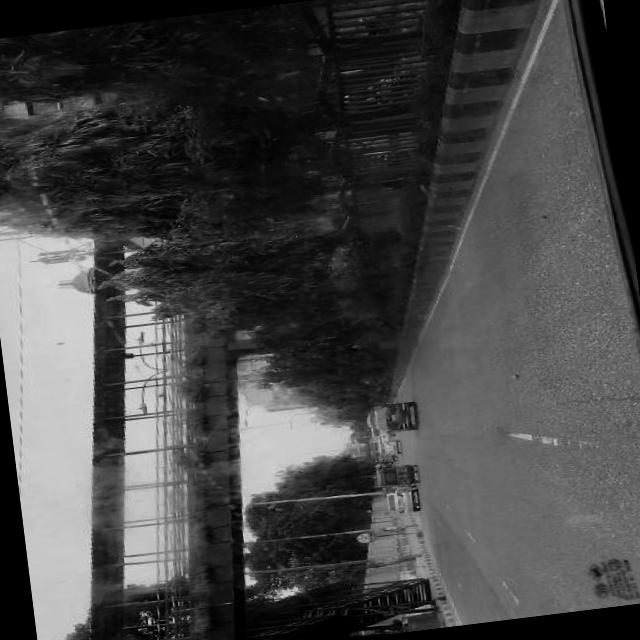car: (372, 400, 417, 434), (383, 484, 422, 515), (378, 439, 402, 456), (376, 435, 388, 442)
motorcycle: (372, 464, 418, 488), (378, 454, 395, 463)
